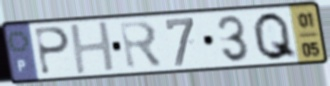3: (217, 13, 249, 64)
7: (163, 16, 196, 68)
H: (67, 19, 118, 77)
P: (32, 25, 72, 77)
Q: (251, 10, 300, 63)
R: (117, 19, 165, 72)
